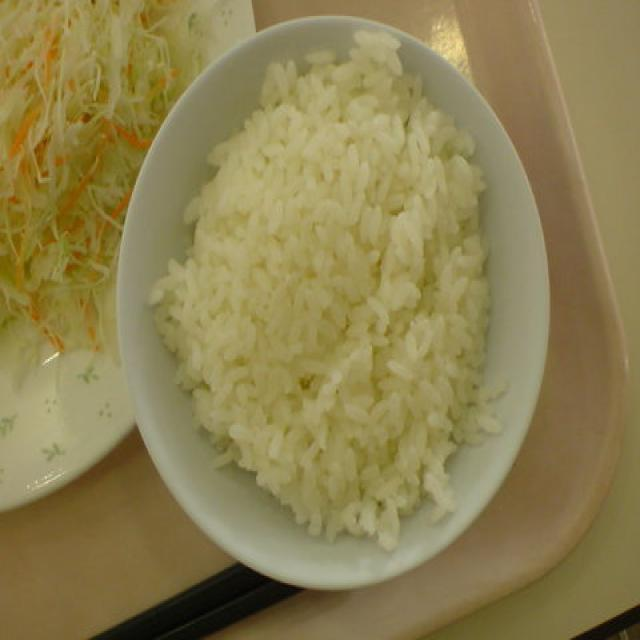Rice: (190, 58, 492, 512)
